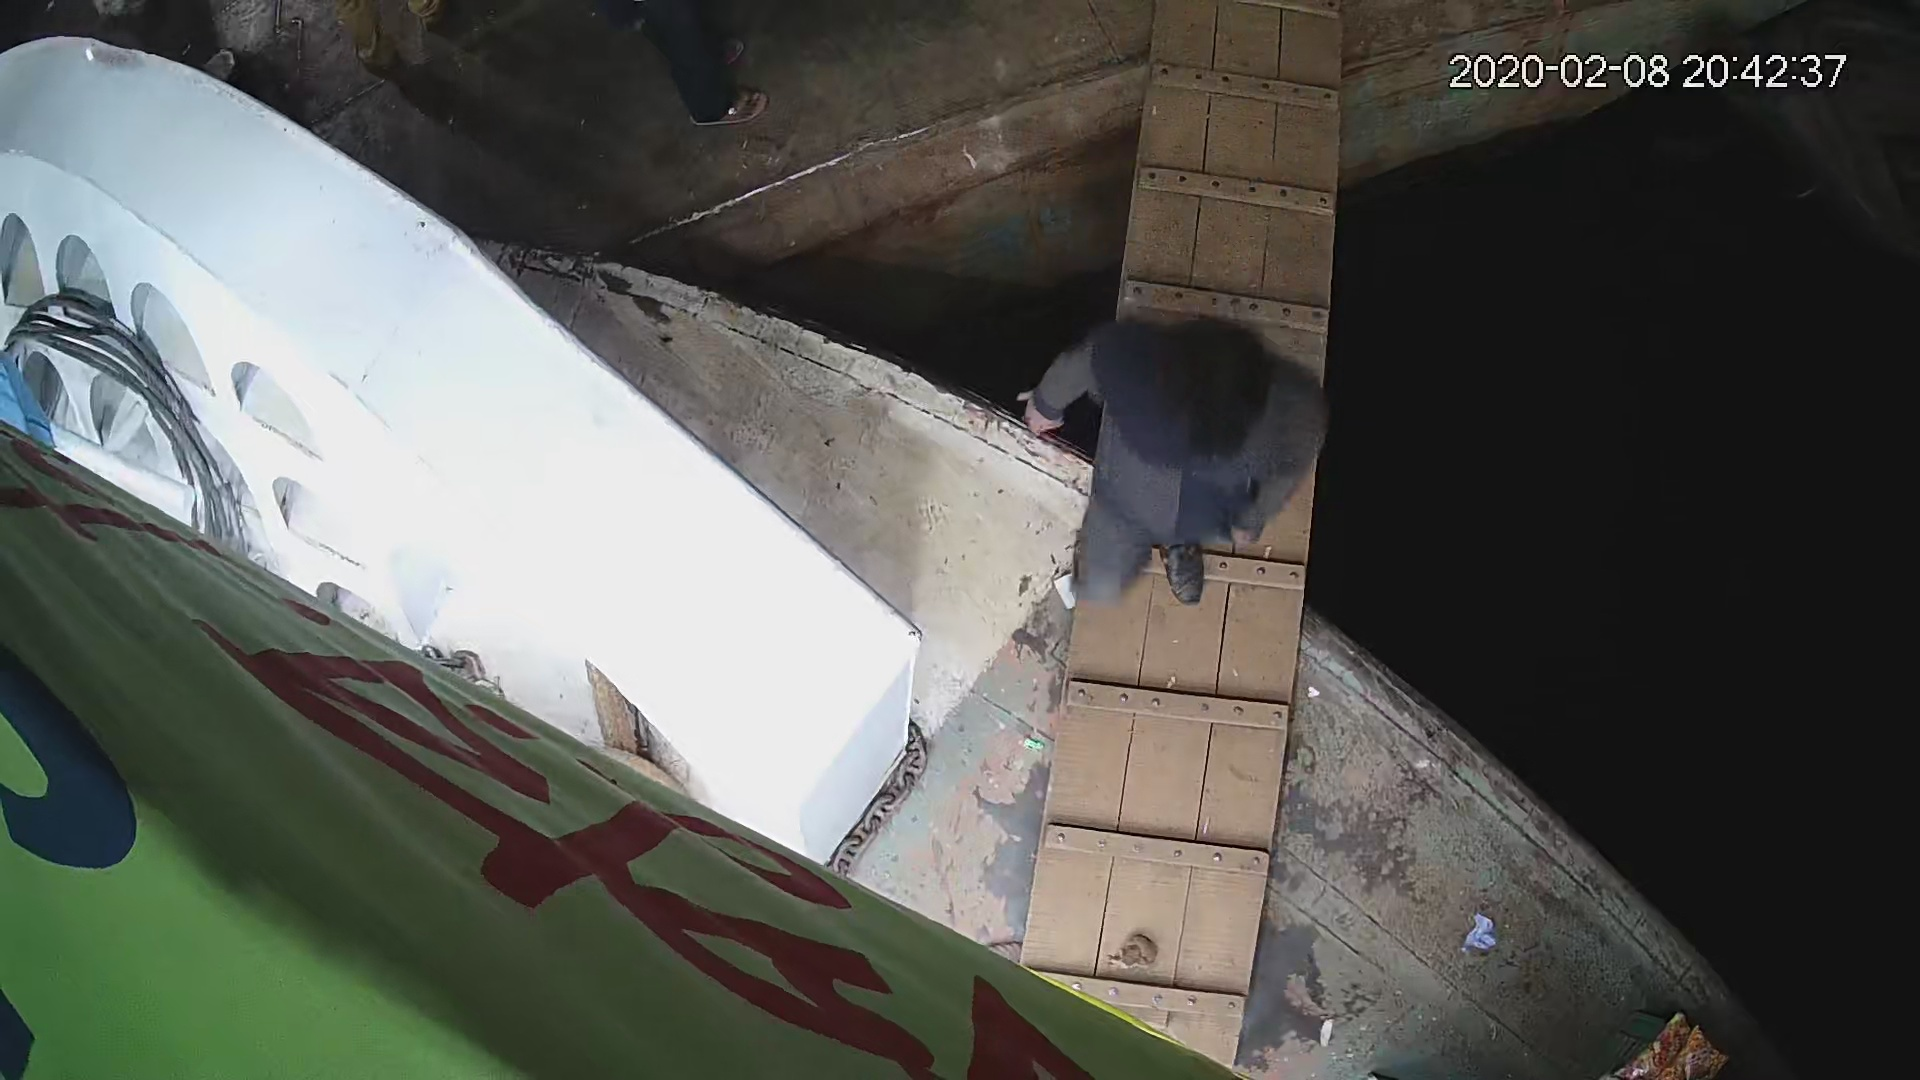person: (1029, 311, 1340, 613)
